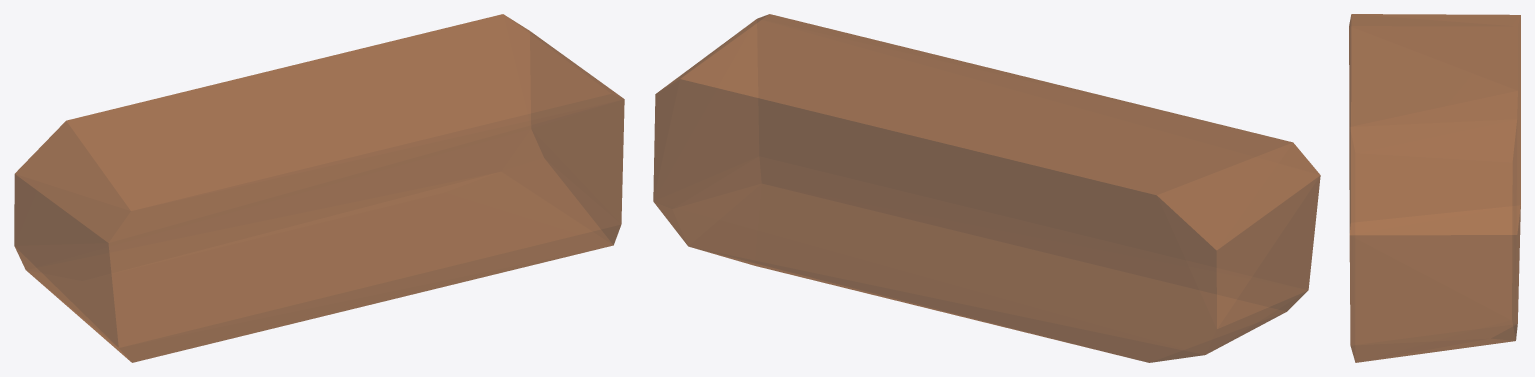
The picture shows the model from 3 angles, left to right: view 1: azimuth 30°, elevation 25°; view 2: azimuth 150°, elevation 25°; view 3: azimuth 270°, elevation 25°; orthographic projection. The views are drawn at different scales.
Visible parts, largest first — view 1: Shape_IndexedFaceSet.005_Shape_IndexedFaceSet.15109; view 2: Shape_IndexedFaceSet.005_Shape_IndexedFaceSet.15109; view 3: Shape_IndexedFaceSet.005_Shape_IndexedFaceSet.15109.
Part boxes in pixels (left/top/right/bottom): Shape_IndexedFaceSet.005_Shape_IndexedFaceSet.15109: left=14, top=14, right=624, bottom=362; Shape_IndexedFaceSet.005_Shape_IndexedFaceSet.15109: left=653, top=14, right=1320, bottom=362; Shape_IndexedFaceSet.005_Shape_IndexedFaceSet.15109: left=1349, top=14, right=1520, bottom=362.
Bounding box in the file's own units: 0.4537 × 0.1408 × 0.1462.
